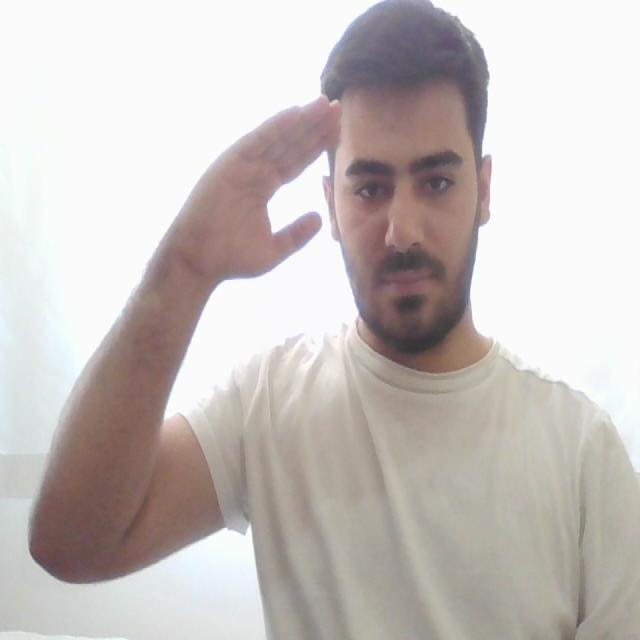Merhaba: (170, 70, 388, 302)
